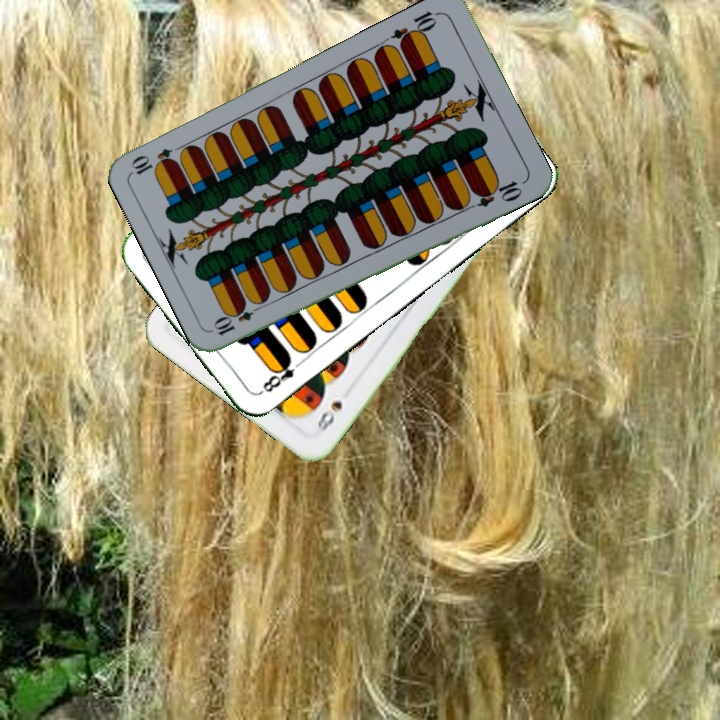E10: (388, 7, 443, 50), (210, 299, 266, 339)
E8: (256, 353, 307, 397)
S8: (313, 396, 345, 439)
